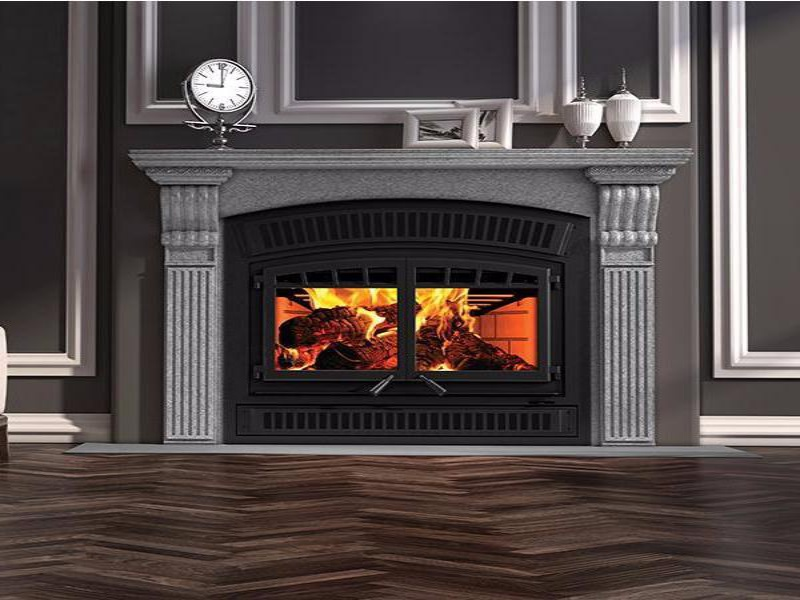fire: (303, 289, 472, 323)
